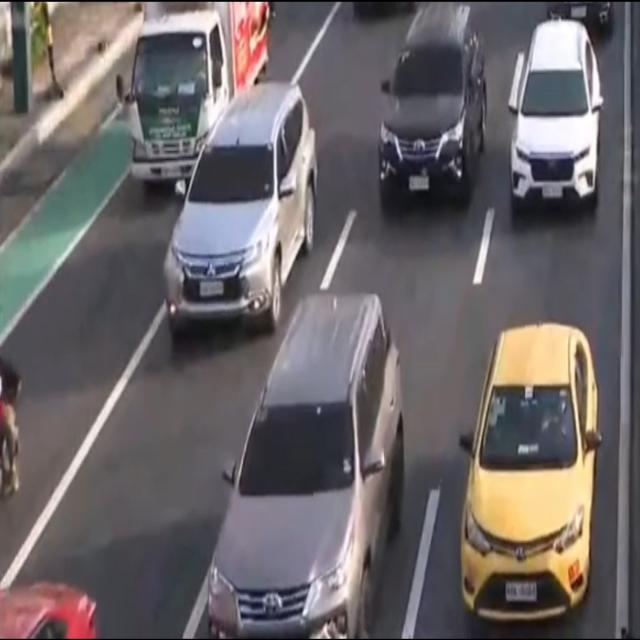SUV: (205, 290, 404, 640), (161, 83, 319, 353), (377, 3, 486, 217), (509, 21, 605, 217)
Sedan: (457, 322, 602, 630)
Truck: (115, 0, 271, 200)
